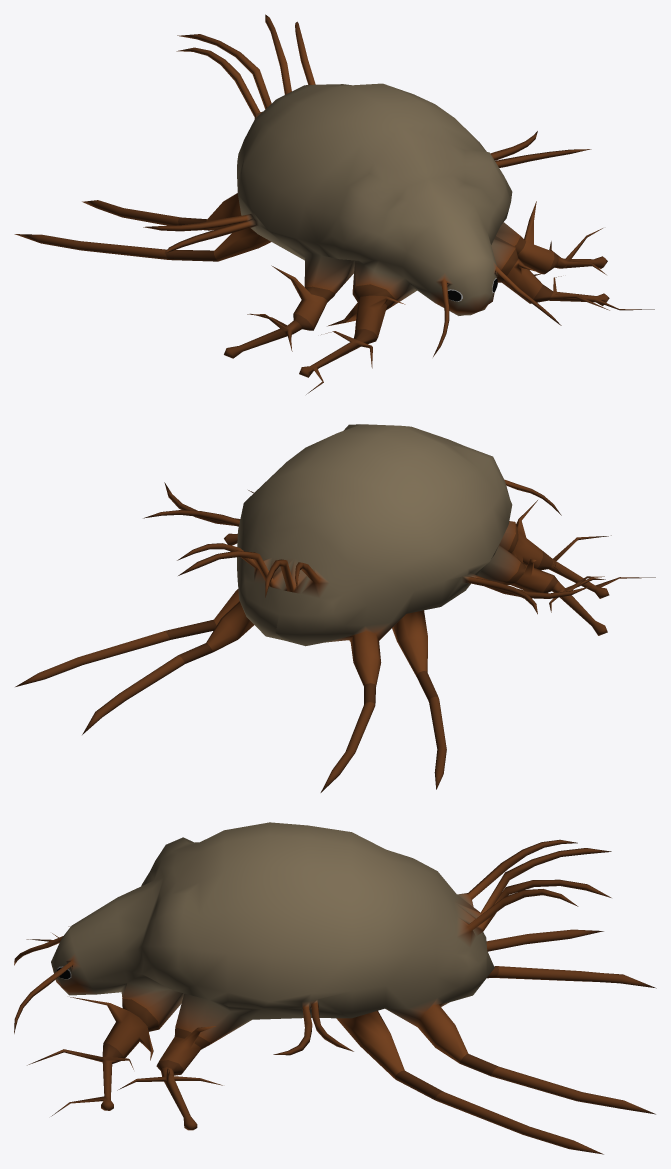
Rendered from microscopic-tiny-animals-dust-mite_v1.glb.
3 views of the same model, one above another, from view 1: azimuth 30°, elevation 25°; view 2: azimuth 150°, elevation 25°; view 3: azimuth 270°, elevation 25° (orthographic). The views are drawn at different scales.
Visible parts, largest first — view 1: Dust Mite; view 2: Dust Mite; view 3: Dust Mite.
Part boxes in pixels (box(x1,y1,x2,y2)): Dust Mite: box(14, 14, 654, 394); Dust Mite: box(15, 424, 655, 792); Dust Mite: box(14, 822, 656, 1154).
Bounding box in the file's own units: 0.25 × 0.1111 × 0.3.
